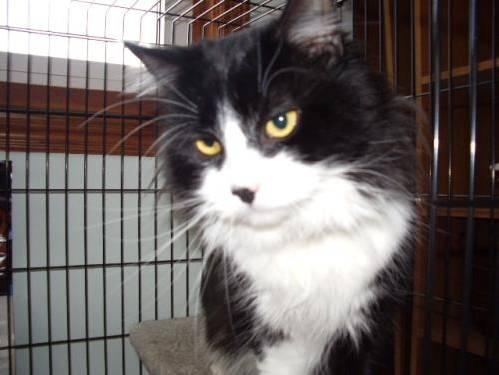cat: (125, 0, 424, 374)
